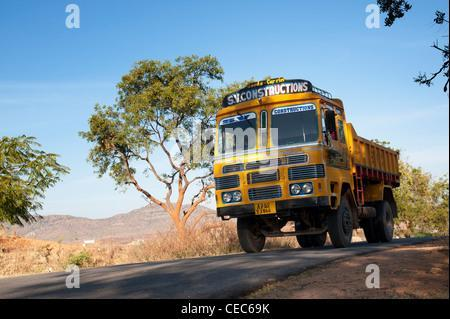truck: (210, 83, 420, 253)
